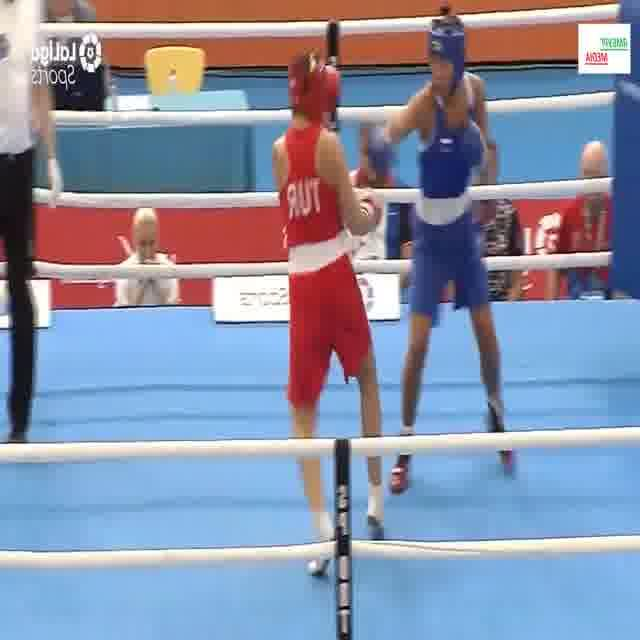blue-player: (365, 10, 517, 492)
red-player: (267, 49, 388, 580)
referee: (0, 1, 47, 452)
